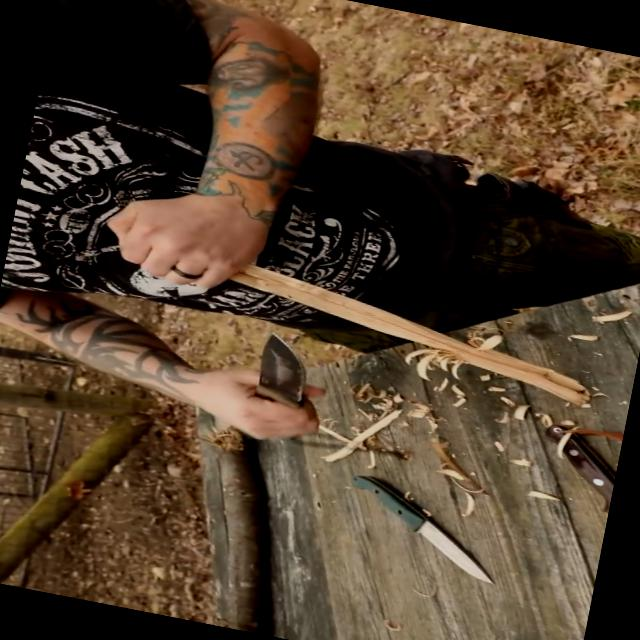knife: (212, 314, 350, 454)
